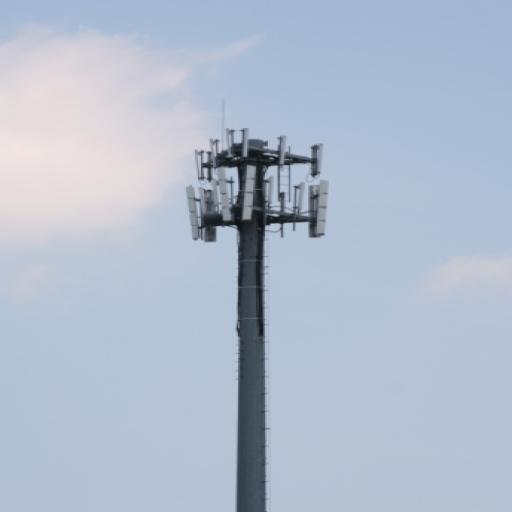monopole_tower: (183, 129, 329, 512)
